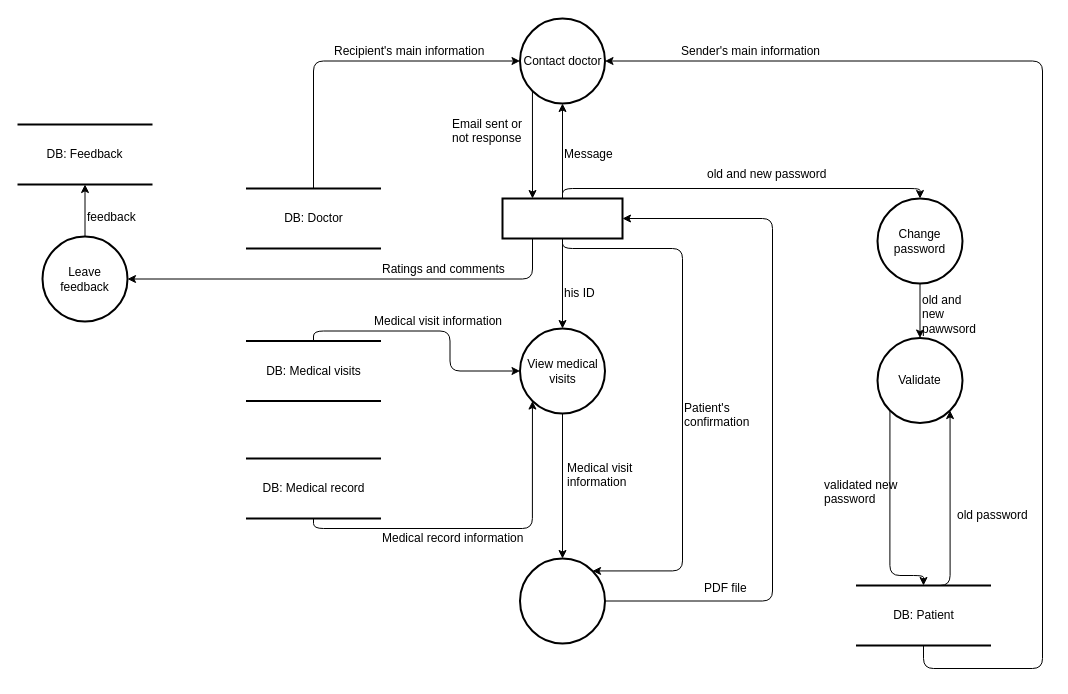
Some shapes in this 1068 by 694 pixel diagram are drawn without their labels. Each missing label, with the centre of its shape:
Download medical visit: (x=562, y=600)
Patient: (x=562, y=218)
